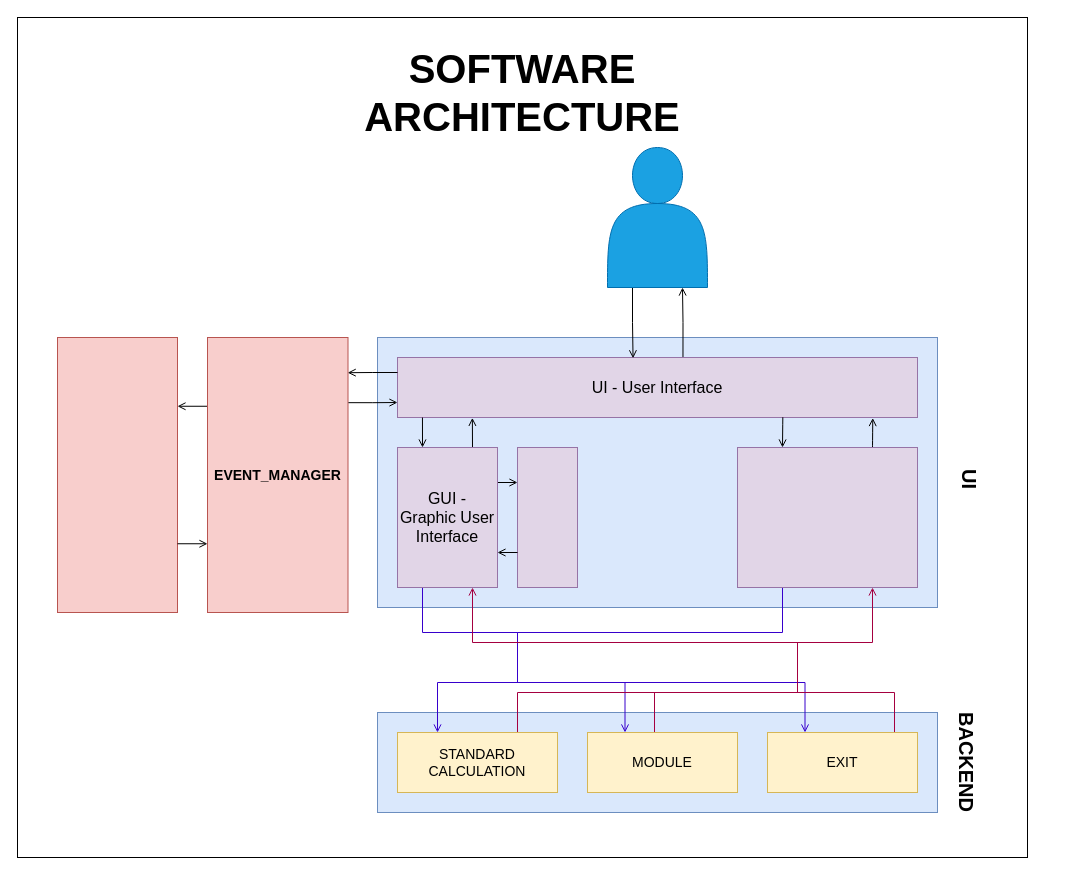
Some shapes in this 1065 by 875 pixel diagram are drawn without their labels. The shapes that lost their labels are listed below. From the top down, each one's centre as x and y in pixels, then its label:
point 117,474: APP_MANAGER
point 547,517: Raygui
point 827,517: CUI - Console User Interface
